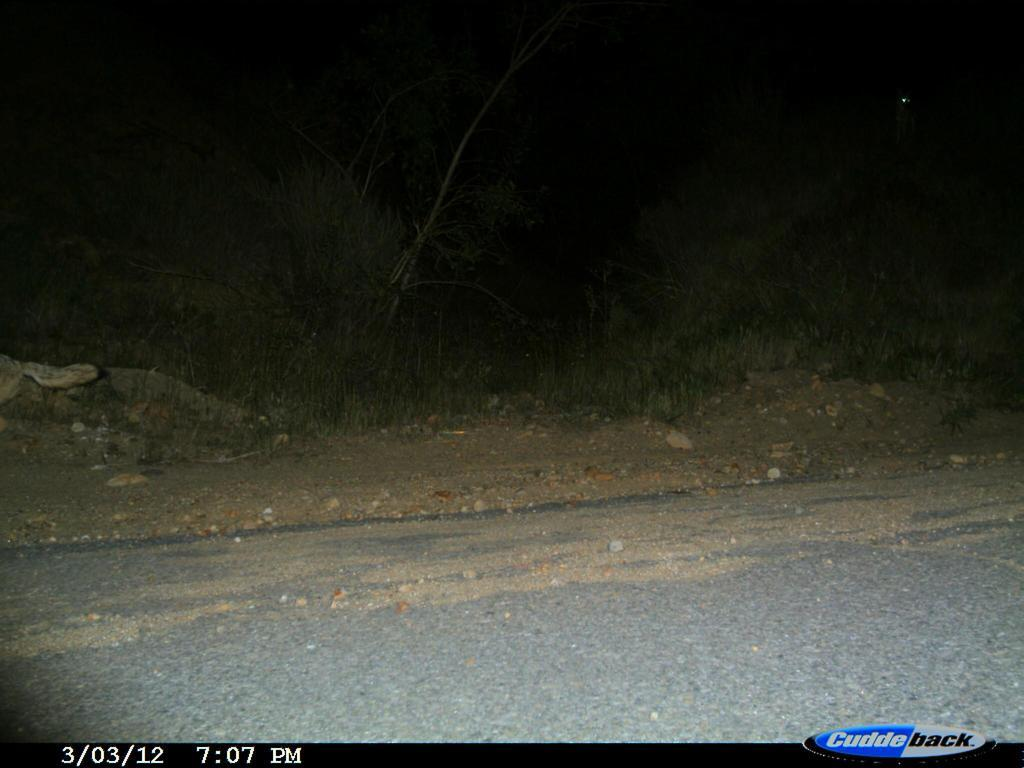coyote: (1, 342, 120, 449)
